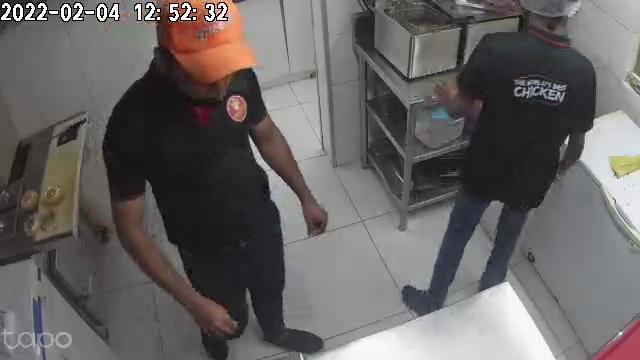no_gloves: (295, 184, 327, 229)
